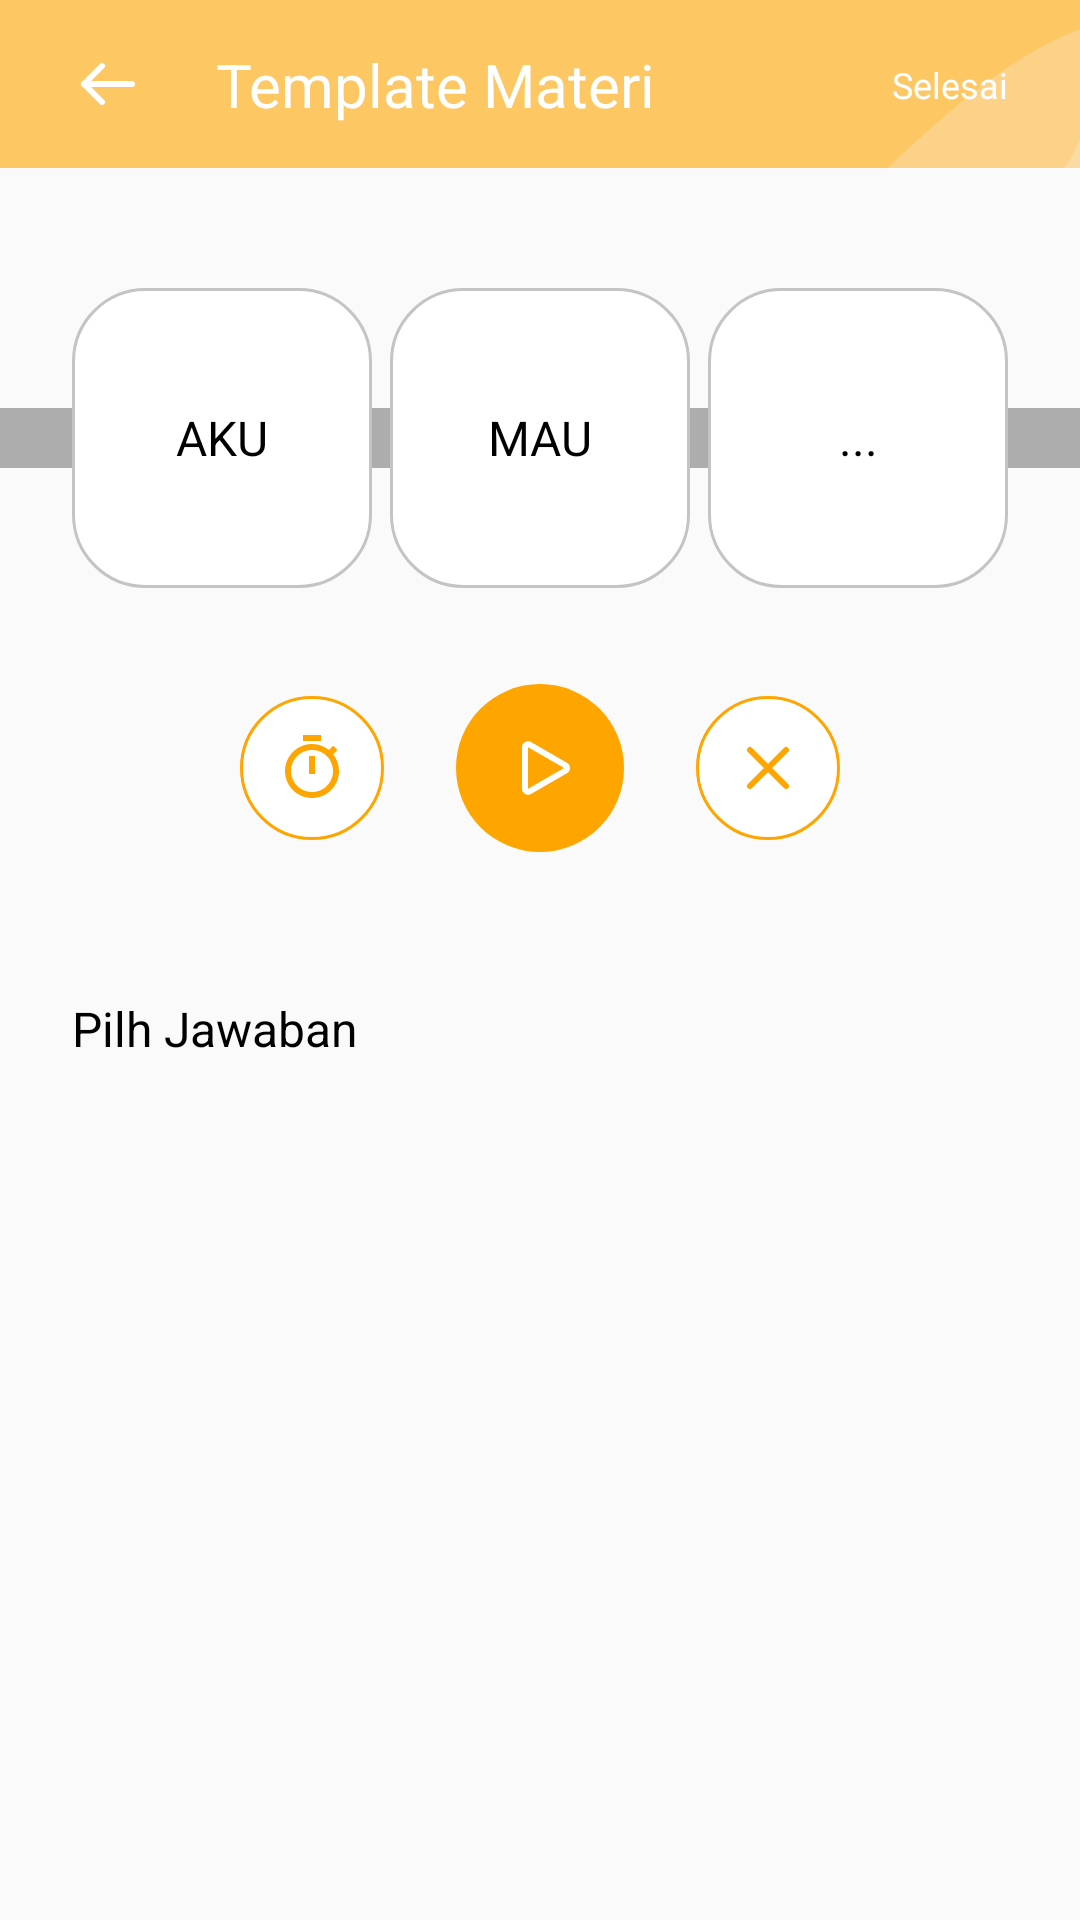

Where icons sit on this 1080w x 1920h app screen, as BBox(x1, y1, x2, y2):
close: BBox(696, 696, 840, 840)
play: BBox(456, 684, 624, 852)
timer: BBox(240, 696, 384, 840)
